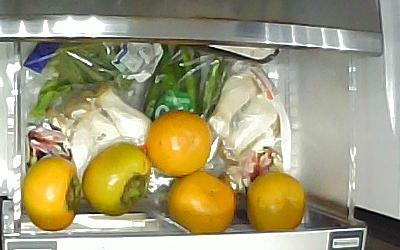persimmon: (82, 142, 153, 216), (23, 156, 81, 231), (147, 112, 212, 178), (168, 171, 235, 235), (246, 171, 306, 232)
